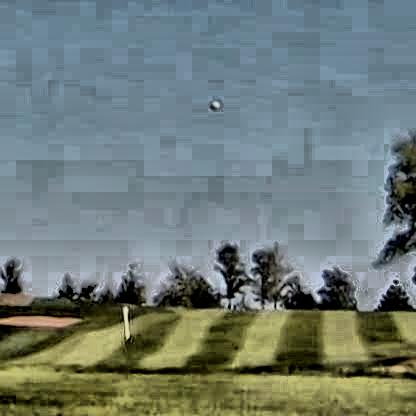golfball: (207, 98, 218, 107)
